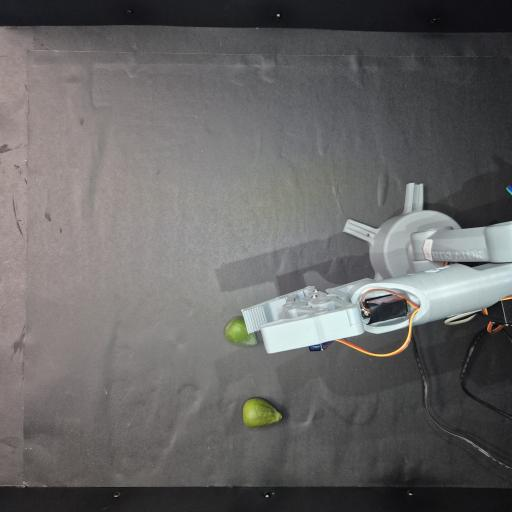higo: (243, 398, 282, 427), (225, 317, 257, 345)
